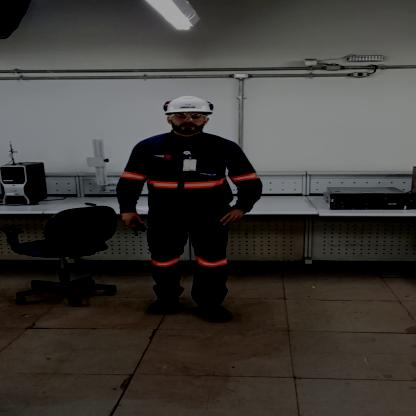Capacete: (161, 94, 216, 116)
